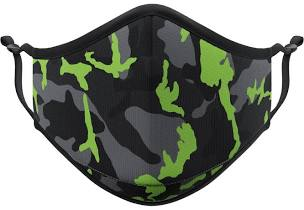FaceMask: (33, 4, 272, 206)
